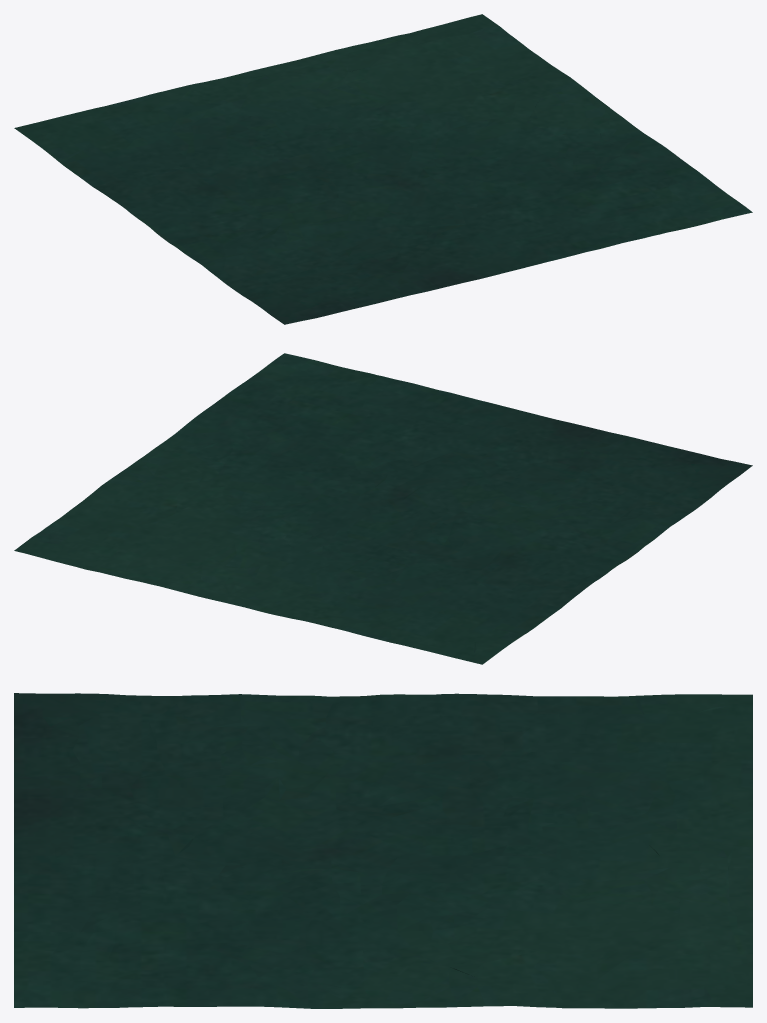
The picture shows the model from 3 angles, top to bottom: view 1: azimuth 30°, elevation 25°; view 2: azimuth 150°, elevation 25°; view 3: azimuth 270°, elevation 25°; orthographic projection. The views are drawn at different scales.
Size of the model in its own units: 104 by 0.7149 by 104.
Materials: 3 (3 with a texture image).
